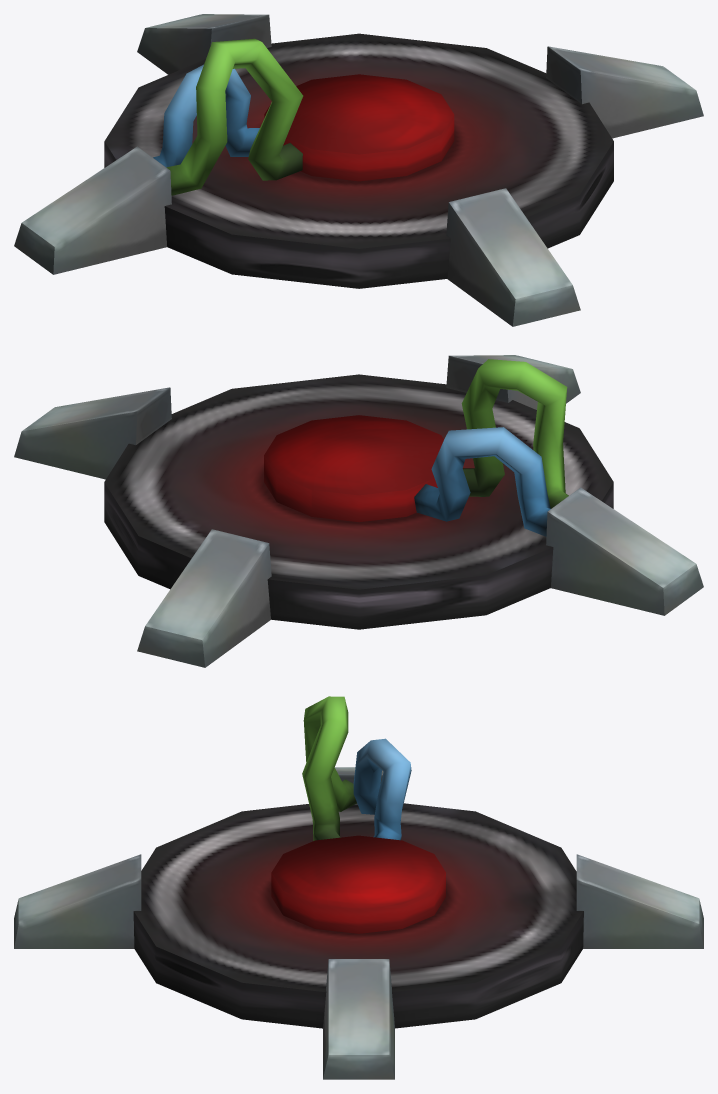
Rendered from prp_mine_01.FBX.
The picture shows the model from 3 angles, top to bottom: view 1: azimuth 30°, elevation 25°; view 2: azimuth 150°, elevation 25°; view 3: azimuth 270°, elevation 25°; orthographic projection. The views are drawn at different scales.
Parts seen in each view (by area): view 1: prp_mine_01; view 2: prp_mine_01; view 3: prp_mine_01.
Part boxes in pixels (bbox=[...]): prp_mine_01: bbox=[14, 14, 703, 326]; prp_mine_01: bbox=[14, 355, 703, 667]; prp_mine_01: bbox=[14, 696, 703, 1079].
Bounding box in the file's own units: 0.9412 × 0.2555 × 0.9412.
Materials: 1 (1 with a texture image).
